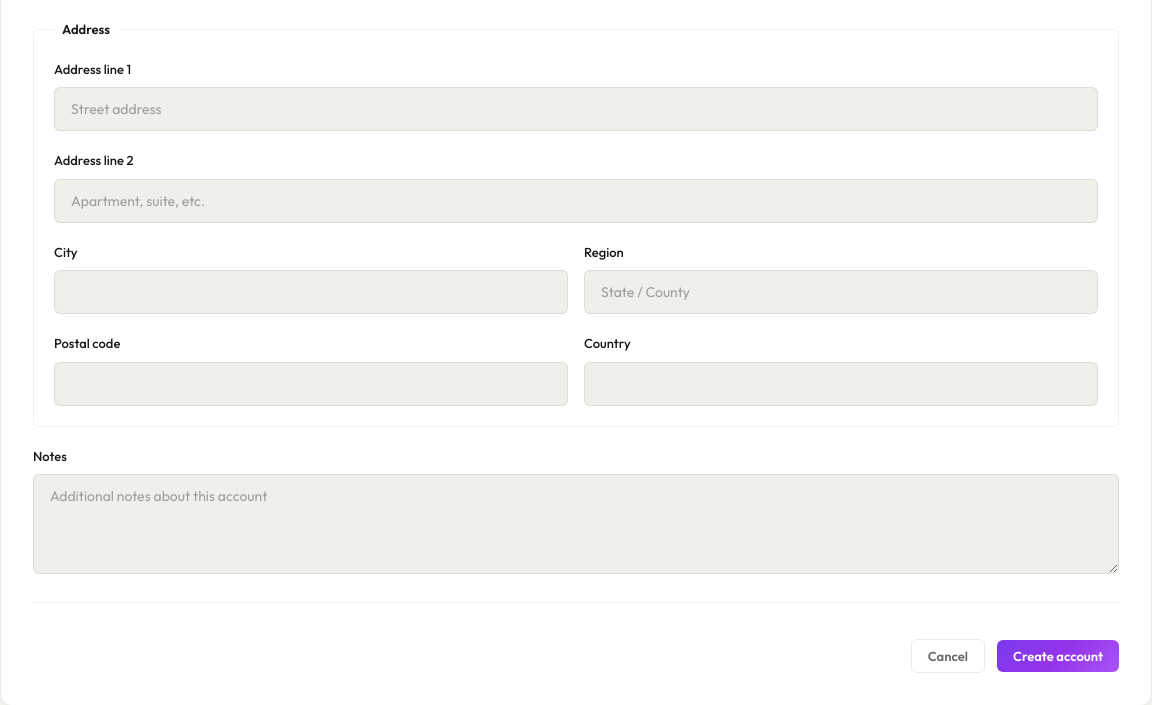
Scenario: CreateAccountPage › shows a client-side validation error when name is empty
The width and height of the screenshot is (1152, 705).
(page scrolled)
Click the button "Create account". click: (1058, 656)
box: [997,640,1119,672]
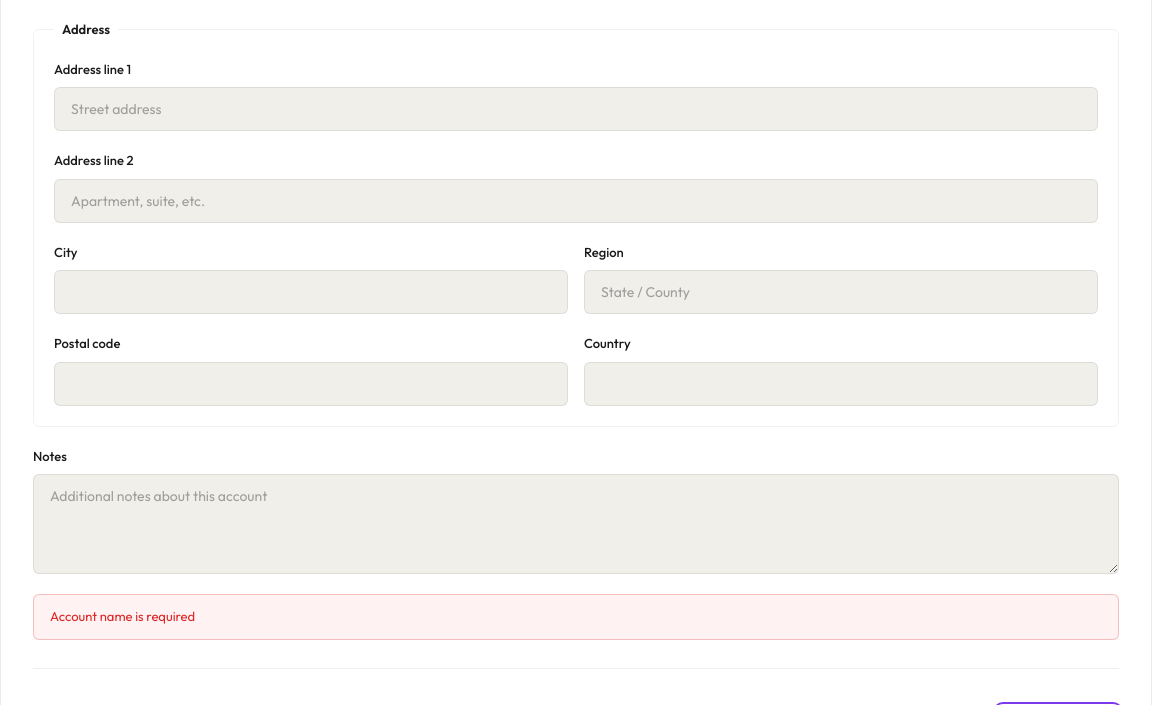
Expected: the message reads "Account name is required", [50,608,195,624]
